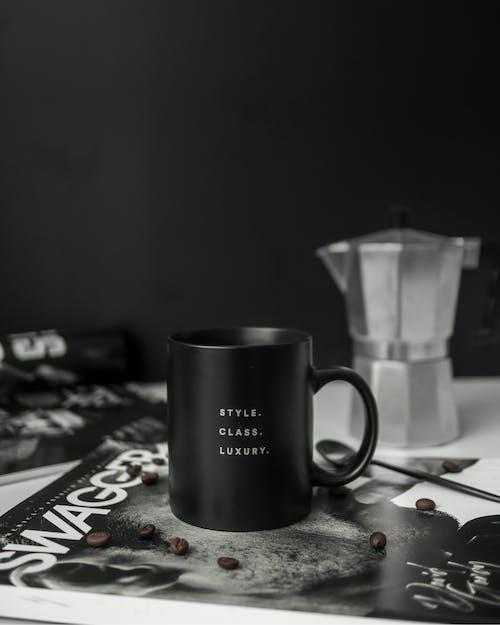Mug: (139, 292, 403, 568)
